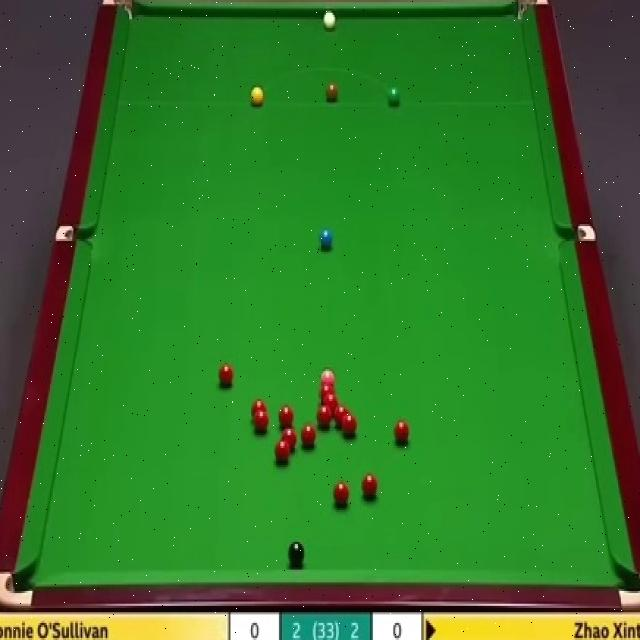black-ball: (286, 538, 305, 564)
blue-ball: (318, 230, 334, 248)
brown-ball: (326, 83, 338, 102)
green-ball: (386, 84, 402, 107)
pink-ball: (320, 369, 338, 384)
red-ball: (393, 416, 410, 444), (274, 439, 292, 463), (302, 421, 318, 447), (217, 362, 233, 388), (316, 404, 332, 429), (332, 477, 348, 502), (340, 412, 357, 435), (361, 472, 376, 495), (278, 404, 293, 427), (254, 410, 269, 432), (322, 392, 338, 412), (333, 401, 348, 422), (252, 399, 267, 420), (282, 430, 297, 450)
white-ball: (322, 10, 336, 29)
yellow-ball: (250, 85, 264, 107)
